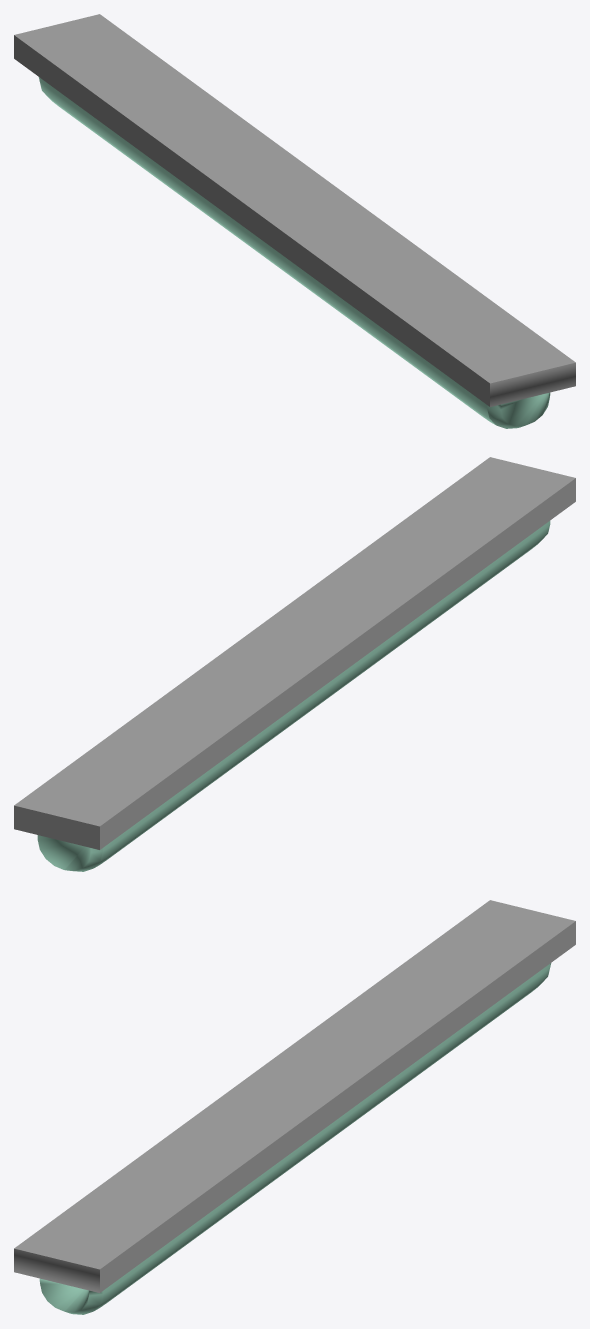
Rendered from NeonLight.fbx.
3 views of the same model, one above another, from view 1: azimuth 30°, elevation 25°; view 2: azimuth 150°, elevation 25°; view 3: azimuth 330°, elevation 25° (orthographic).
Parts seen in each view (by area): view 1: Cube; view 2: Cube; view 3: Cube.
Boxes of the visible parts, x1,y1,x2,y2 form: Cube: (14,14,575,428); Cube: (14,457,575,871); Cube: (14,900,575,1314).
Bounding box in the file's own units: 200 × 146 × 1920.
